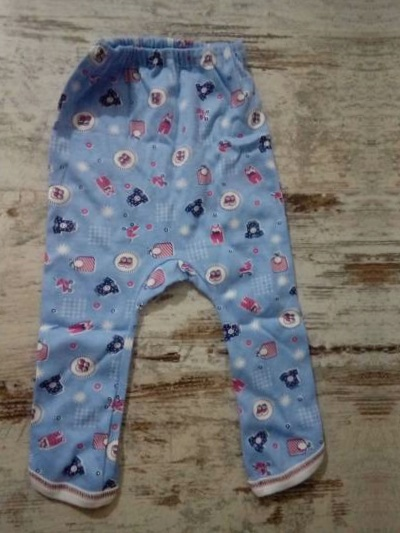Pants: (9, 17, 341, 515)
